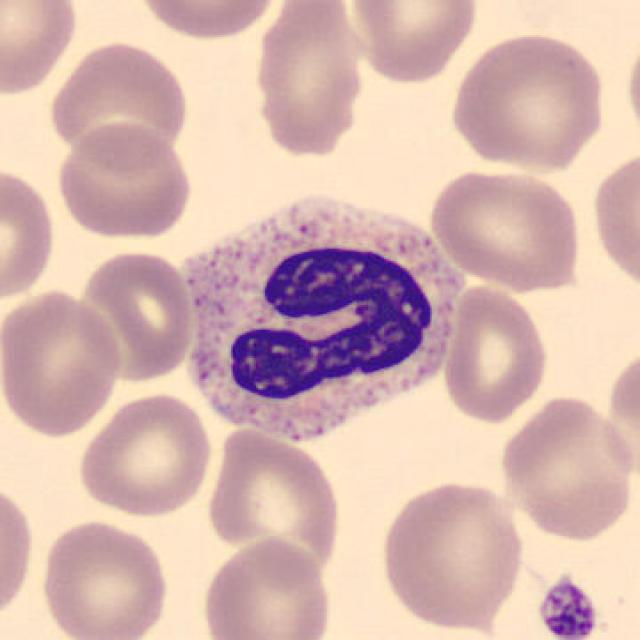Neutrophil: (172, 188, 468, 458)
Platelets: (533, 575, 601, 640)
RBC: (446, 26, 610, 173), (375, 476, 528, 633), (203, 425, 345, 580), (496, 391, 636, 545), (425, 164, 585, 294), (44, 37, 192, 169), (0, 286, 126, 439), (75, 390, 215, 518), (258, 0, 363, 169), (51, 121, 196, 242), (439, 280, 553, 427), (37, 516, 172, 640), (76, 245, 196, 383), (197, 534, 336, 640), (343, 0, 484, 85), (0, 160, 59, 305), (0, 0, 82, 99), (588, 143, 638, 298), (128, 0, 288, 42), (0, 476, 37, 627), (601, 342, 640, 485), (622, 27, 640, 154)
